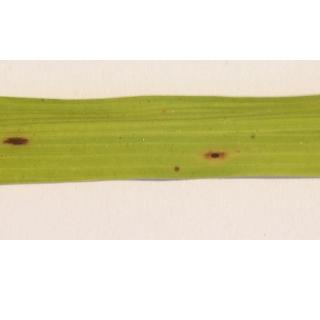bercak-Cokelat: (0, 132, 38, 152), (165, 164, 188, 178), (205, 148, 225, 164)
